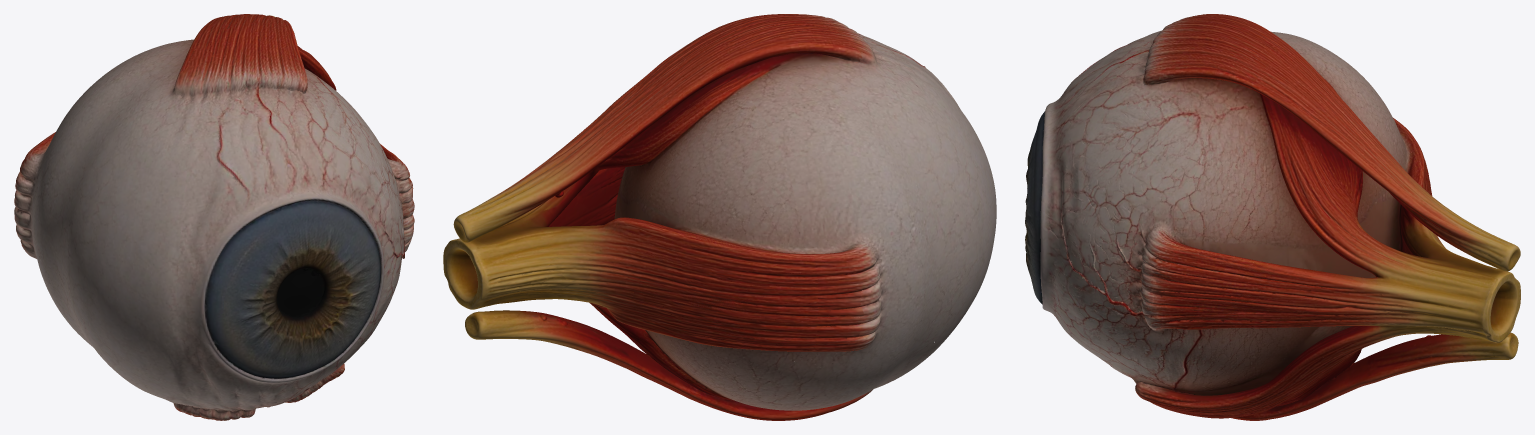
Rendered from eye.glb.
The picture shows the model from 3 angles, left to right: view 1: azimuth 30°, elevation 25°; view 2: azimuth 150°, elevation 25°; view 3: azimuth 270°, elevation 25°; orthographic projection. The views are drawn at different scales.
Parts seen in each view (by area): view 1: tripo_node_fc5198e3-8390-4b60-9c8d-b075e5485129; view 2: tripo_node_fc5198e3-8390-4b60-9c8d-b075e5485129; view 3: tripo_node_fc5198e3-8390-4b60-9c8d-b075e5485129.
Boxes of the visible parts, x1,y1,x2,y2 form: tripo_node_fc5198e3-8390-4b60-9c8d-b075e5485129: (14,14,414,420); tripo_node_fc5198e3-8390-4b60-9c8d-b075e5485129: (443,14,996,420); tripo_node_fc5198e3-8390-4b60-9c8d-b075e5485129: (1025,14,1520,420).
Size of the model in its own units: 0.8787 by 0.8354 by 0.9792.
Materials: 1 (1 with a texture image).
